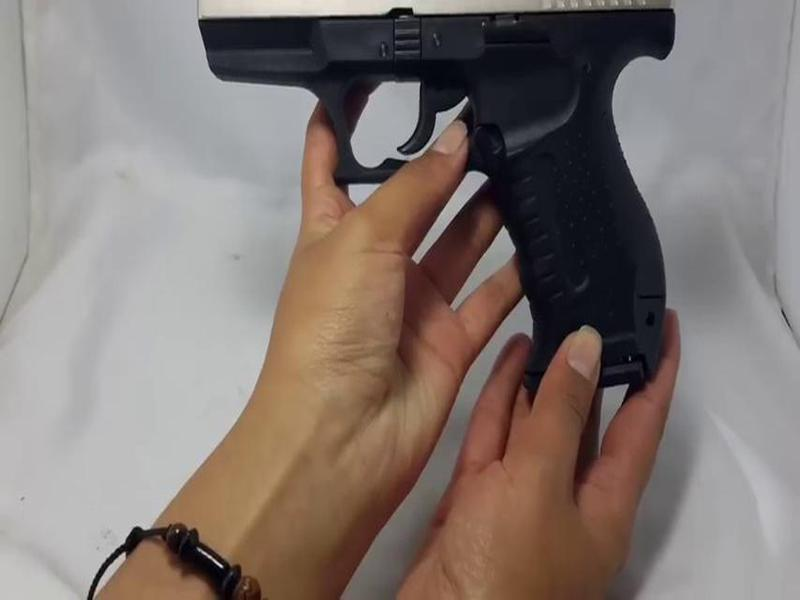Pistola: (192, 3, 696, 393)
